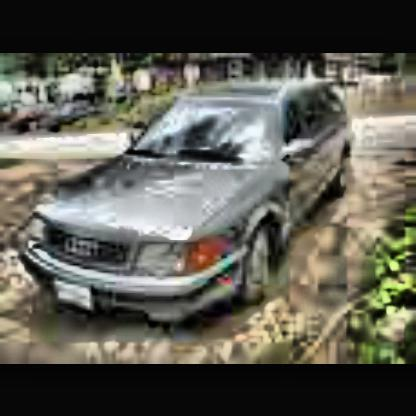Audi 100 Wagon 1994: (15, 85, 355, 327)
